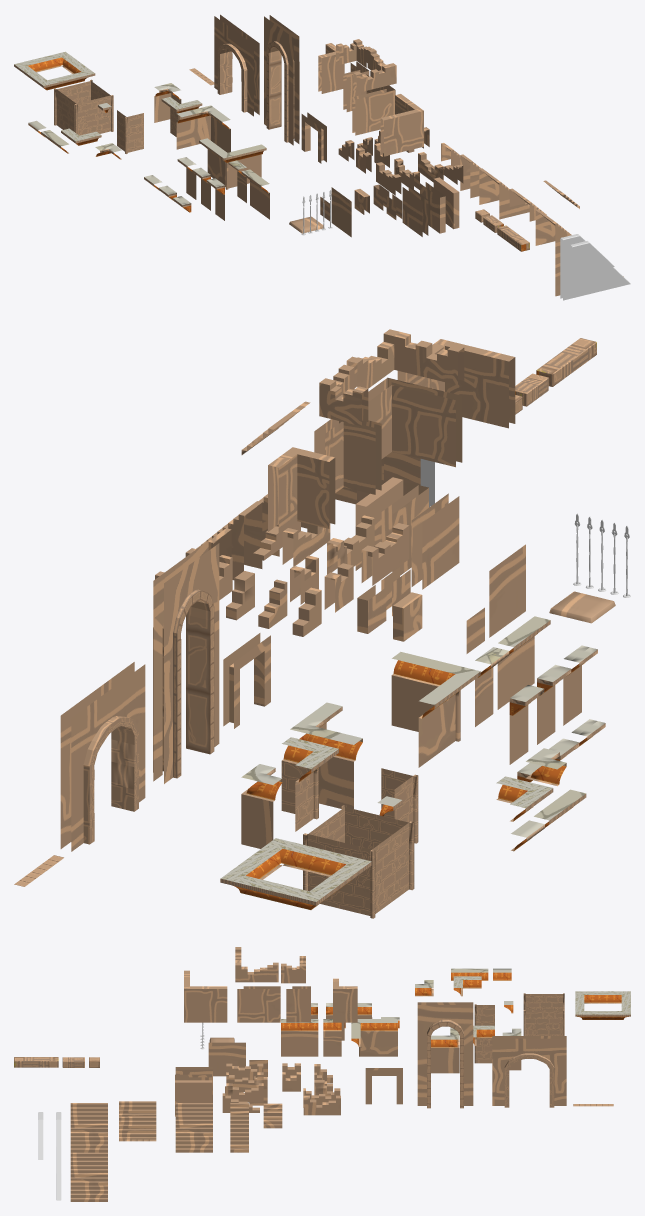
File: Walls.fbx
The picture shows the model from 3 angles, top to bottom: view 1: azimuth 30°, elevation 25°; view 2: azimuth 150°, elevation 25°; view 3: azimuth 270°, elevation 25°; orthographic projection. The views are drawn at different scales.
Parts seen in each view (by area): view 1: Door.001, Door.002, OpenWall2x2.021, OpenWall2x2.004, Cube.014, OpenWall2x2.011, OpenWall2x2.014, OpenWall2x2.003, OpenWall2x2.022, StairsBig, BrokenPart_Big_Closed_Horizontal.006, OpenWall2x2 (+21 smaller); view 2: Door.001, Door.002, OpenWall2x2.021, OpenWall2x2.003, OpenWall2x2.014, OpenWall2x2.022, OpenWall2x2.006, OpenWall2x2.004, BrokenPart_Big_Closed_Horizontal.006, OpenWall2x2.005, OpenWall2x2, OpenWall2x2.011 (+31 smaller); view 3: Door.001, Door.002, StairsBig, StairsBig.001, StairsBig.002, OpenWall2x2.021, OpenWall2x2.004, OpenWall2x2.014, OpenWall2x2.003, OpenWall2x2.008, OpenWall2x2.022, OpenWall2x2.011 (+22 smaller).
Boxes of the visible parts, left/top/right/bottom form: Door.001: left=264, top=15, right=299, bottom=145; Door.002: left=214, top=14, right=259, bottom=116; OpenWall2x2.021: left=54, top=79, right=113, bottom=135; OpenWall2x2.004: left=380, top=94, right=423, bottom=156; Cube.014: left=560, top=234, right=630, bottom=300; OpenWall2x2.011: left=176, top=105, right=230, bottom=152; OpenWall2x2.014: left=199, top=138, right=266, bottom=189; OpenWall2x2.003: left=352, top=74, right=395, bottom=135; OpenWall2x2.022: left=14, top=51, right=95, bottom=90; StairsBig: left=479, top=168, right=529, bottom=219; BrokenPart_Big_Closed_Horizontal.006: left=353, top=48, right=396, bottom=92; OpenWall2x2: left=402, top=186, right=428, bottom=236; Door.001: left=153, top=540, right=219, bottom=783; Door.002: left=60, top=662, right=145, bottom=851; OpenWall2x2.021: left=303, top=805, right=414, bottom=918; OpenWall2x2.003: left=368, top=377, right=462, bottom=467; OpenWall2x2.014: left=391, top=652, right=480, bottom=767; OpenWall2x2.022: left=220, top=838, right=371, bottom=909; OpenWall2x2.006: left=268, top=447, right=335, bottom=534; OpenWall2x2.004: left=397, top=339, right=515, bottom=428; BrokenPart_Big_Closed_Horizontal.006: left=346, top=329, right=464, bottom=388; OpenWall2x2.005: left=314, top=419, right=381, bottom=494; OpenWall2x2: left=411, top=493, right=459, bottom=589; OpenWall2x2.011: left=290, top=702, right=362, bottom=808; Door.001: left=417, top=1002, right=473, bottom=1108; Door.002: left=492, top=1036, right=566, bottom=1107; StairsBig: left=175, top=1103, right=212, bottom=1152; StairsBig.001: left=70, top=1103, right=107, bottom=1152; StairsBig.002: left=70, top=1152, right=107, bottom=1201; OpenWall2x2.021: left=523, top=993, right=564, bottom=1035; OpenWall2x2.004: left=184, top=970, right=227, bottom=1022; OpenWall2x2.014: left=351, top=1019, right=397, bottom=1056; OpenWall2x2.003: left=237, top=986, right=280, bottom=1022; OpenWall2x2.008: left=281, top=1019, right=318, bottom=1056; OpenWall2x2.022: left=575, top=991, right=630, bottom=1019; OpenWall2x2.011: left=431, top=1027, right=459, bottom=1073.
Bounding box in the file's own units: 2099 × 1024 × 3316.
